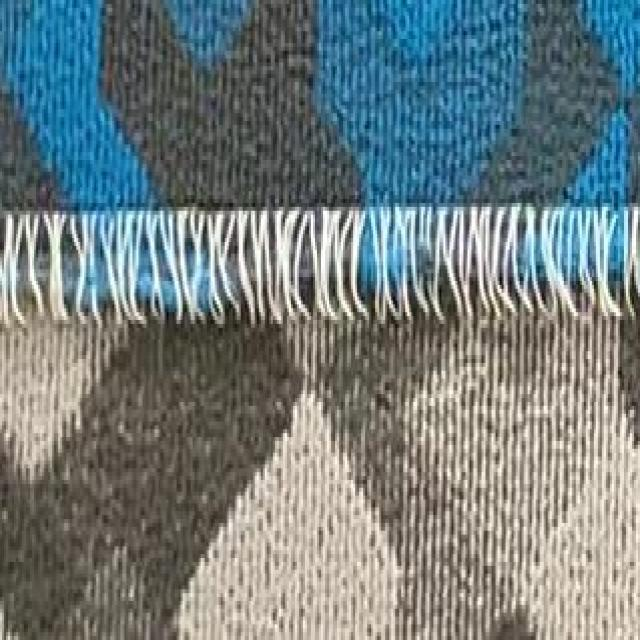gray stitch: (2, 199, 640, 328)
